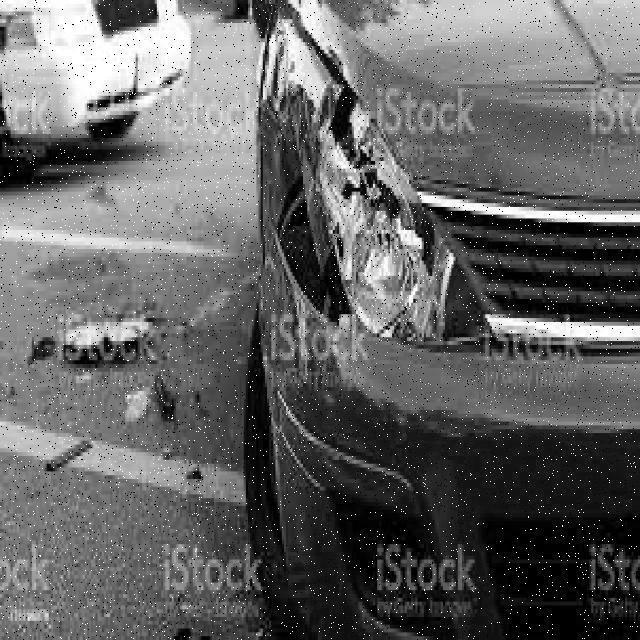Headlight-damage: (261, 81, 456, 372)
